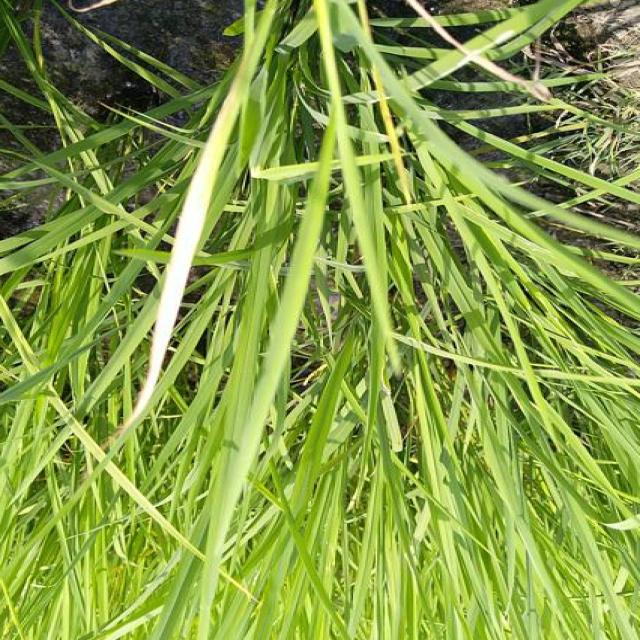Leaf Blight: (102, 66, 242, 452)
